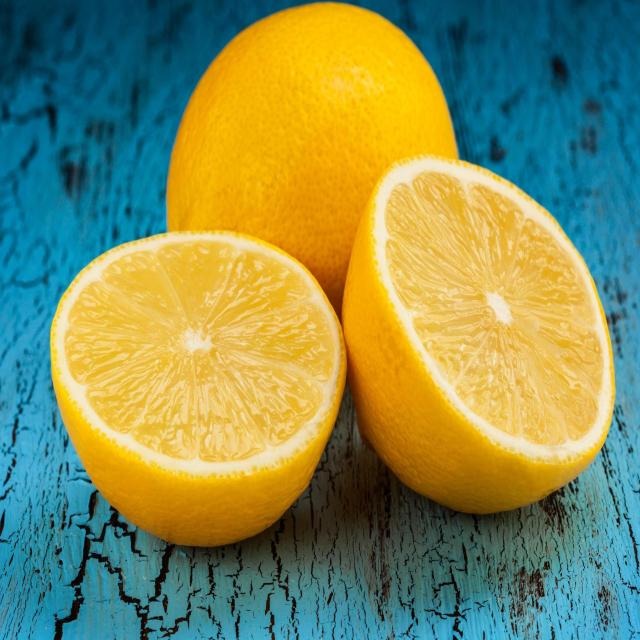lemon: (332, 145, 624, 520), (40, 223, 349, 556)
